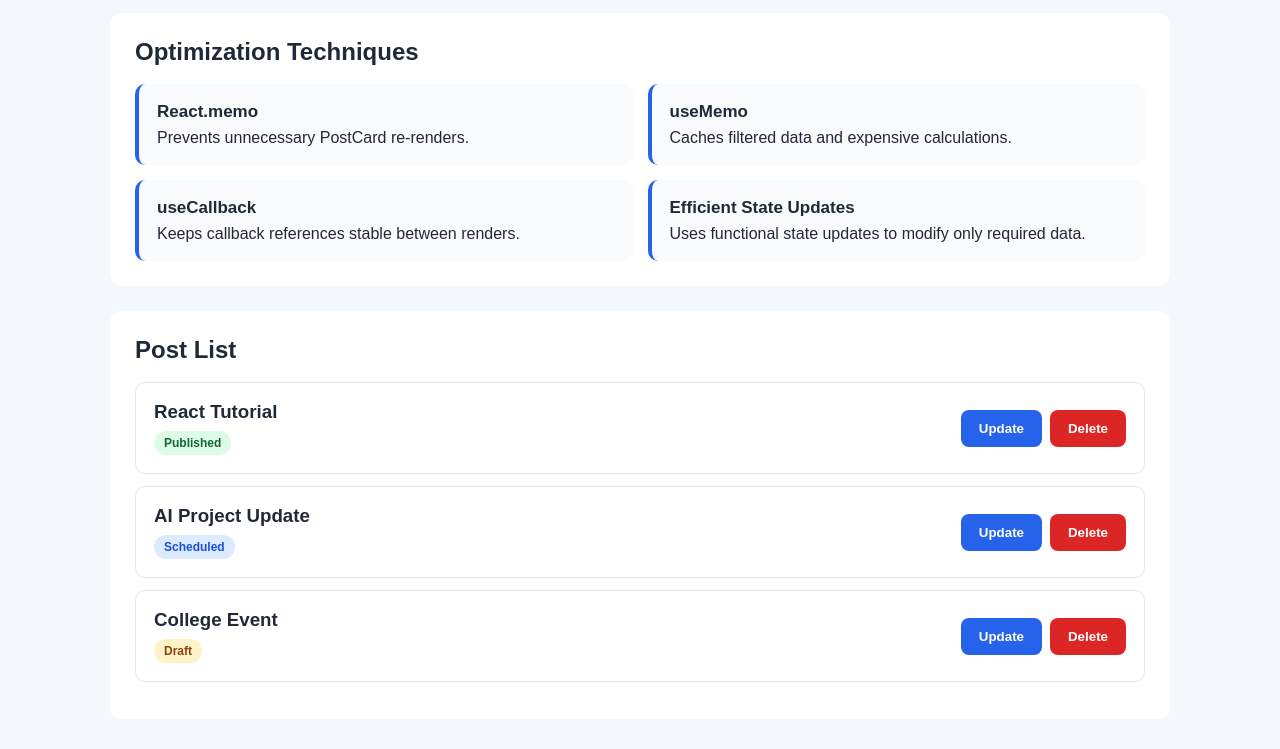
Scenario: Performance Optimized Post Manager › deletes a post
(page scrolled)
Expected: the heading "College Event" is shown, [154, 609, 278, 631]
Click the button "Delete" in the row of "College Event" at (1088, 636), box [1050, 618, 1126, 654]
(page scrolled)
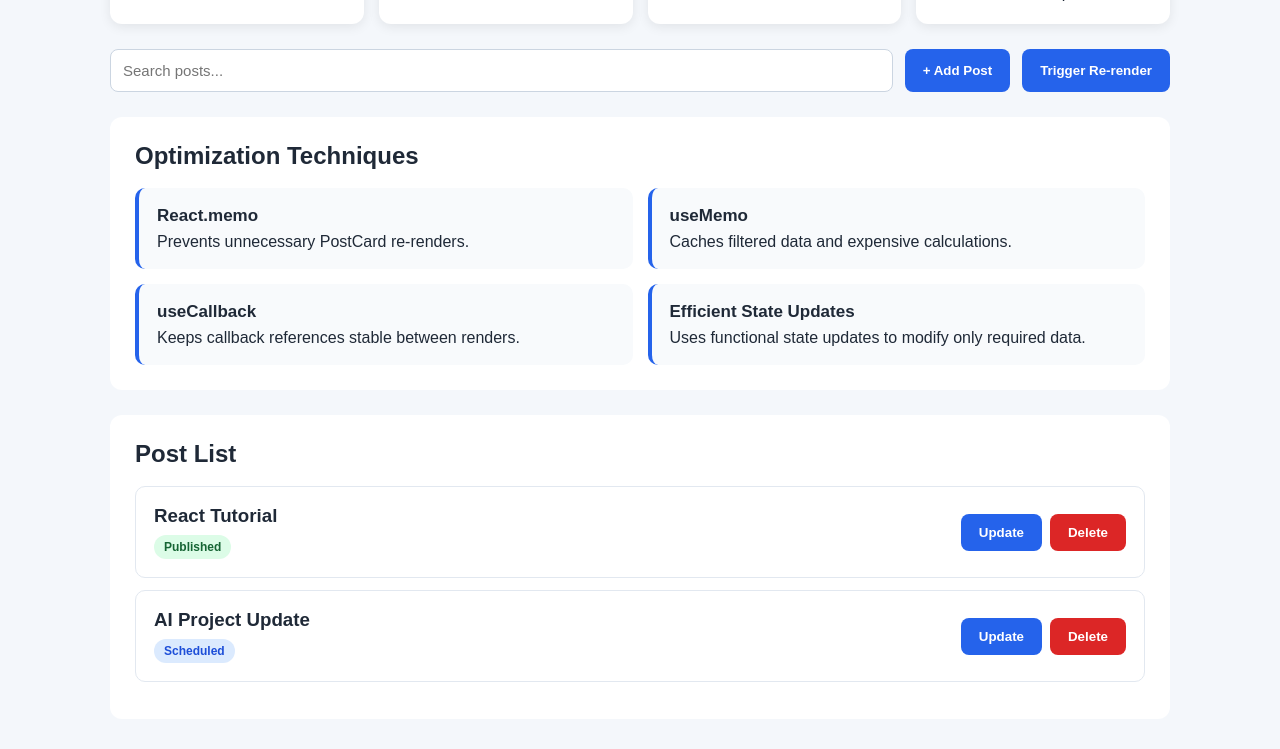
Result: the heading "College Event" is gone
